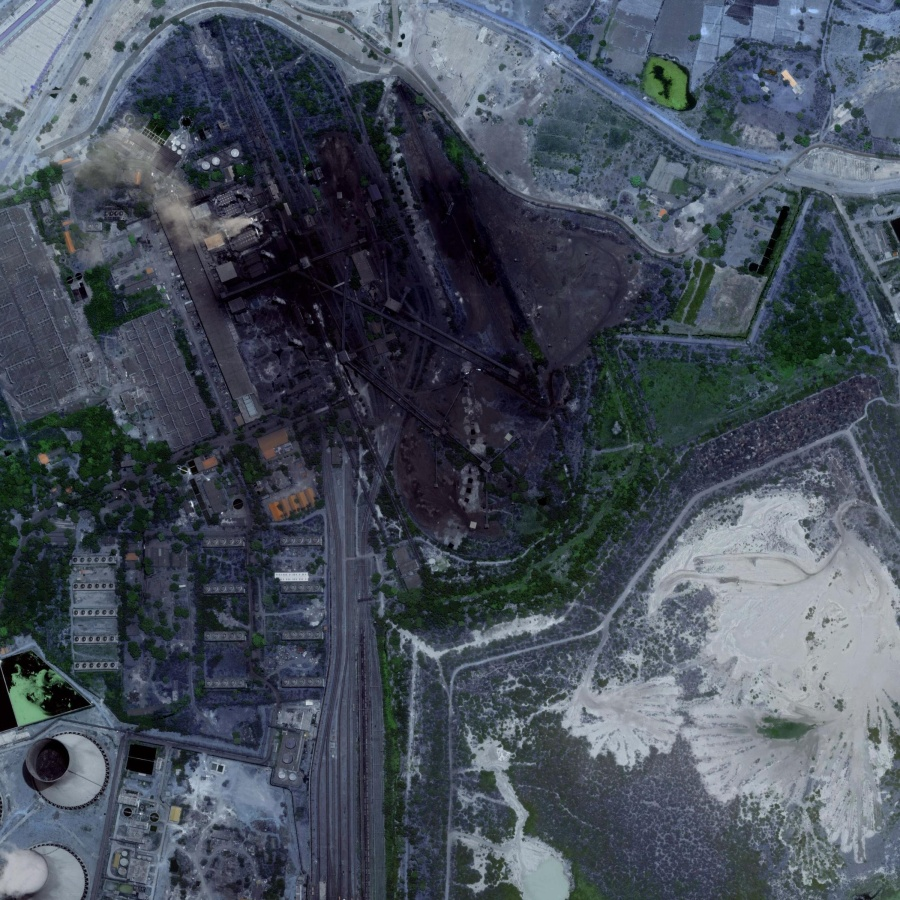PowerPlant: (94, 1, 585, 540)
